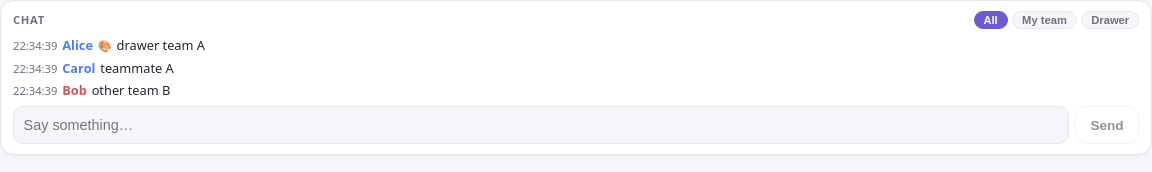
Test case: filters: All / My team / Drawer narrow what is shown
The width and height of the screenshot is (1152, 172).
expect the text "drawer team A" is shown: met, box 116,37 -> 205,54
expect the text "teammate A" is shown: met, box 100,60 -> 174,76
Click the button "My team" at (1044, 20), box 1012,11 -> 1077,29
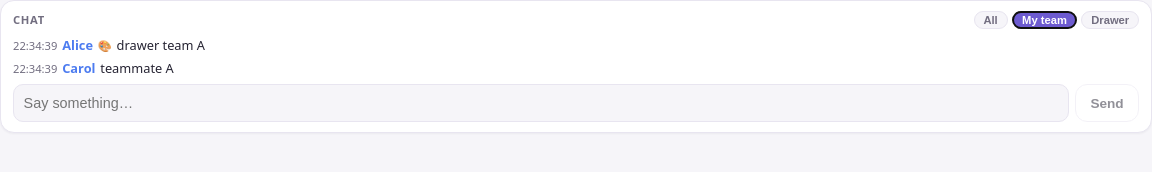
expect the text "drawer team A" is shown: met, box 116,37 -> 205,54
expect the text "other team B" is gone: met
Click the button "Drawer" at (1110, 20), box 1082,11 -> 1139,29
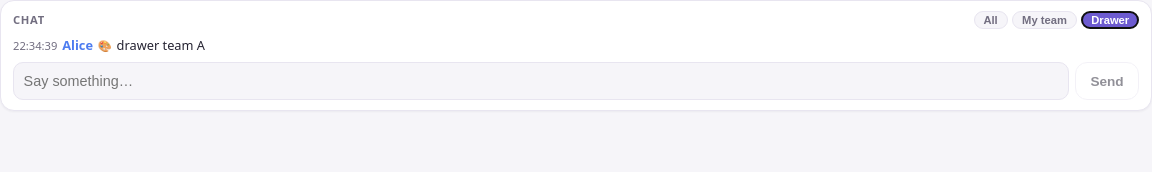
expect the text "drawer team A" is shown: met, box 116,37 -> 205,54
expect the text "teammate A" is gone: met
Click the button "All" at (991, 20), box 974,11 -> 1008,29
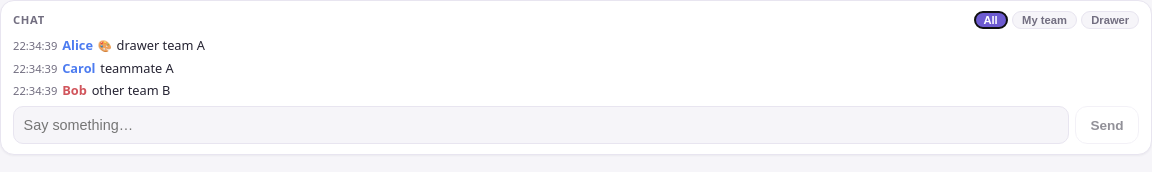
expect the text "other team B" is shown: met, box 92,82 -> 170,98
